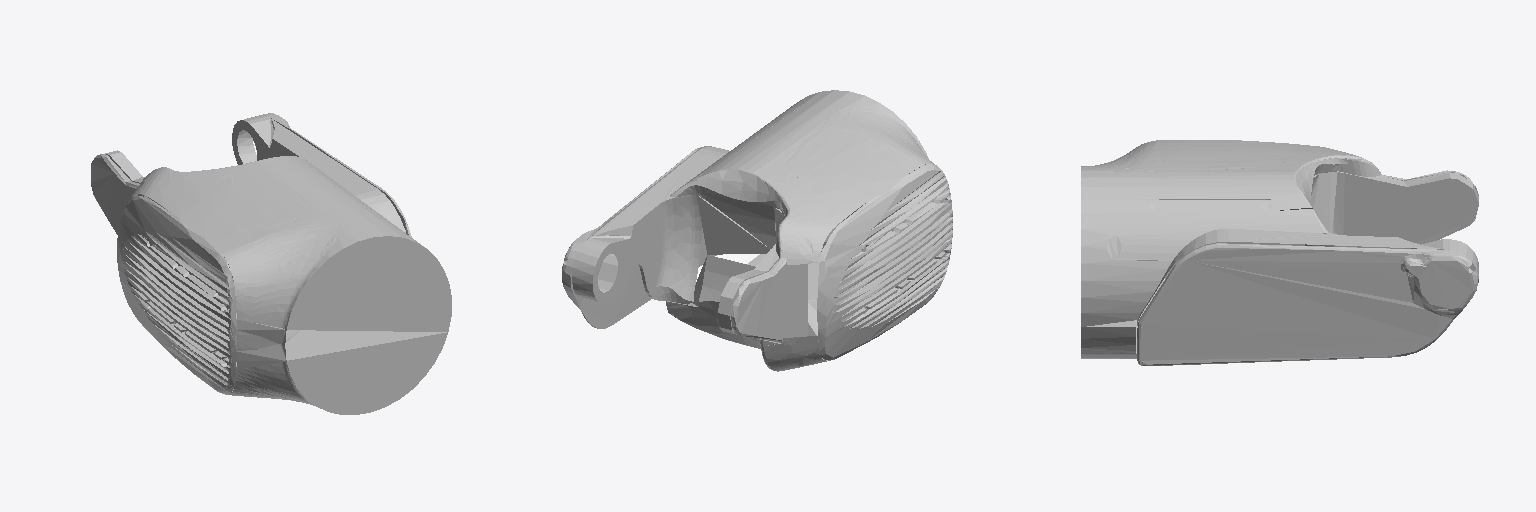
File: RightWristYawLink.obj
3 renders of one model, left to right at view 1: azimuth 30°, elevation 25°; view 2: azimuth 150°, elevation 25°; view 3: azimuth 270°, elevation 25°, orthographic.
Bounding box in the file's own units: 0.1139 × 0.087 × 0.1797.